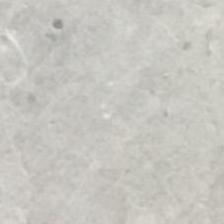Non_Crack: (24, 36, 207, 192)
